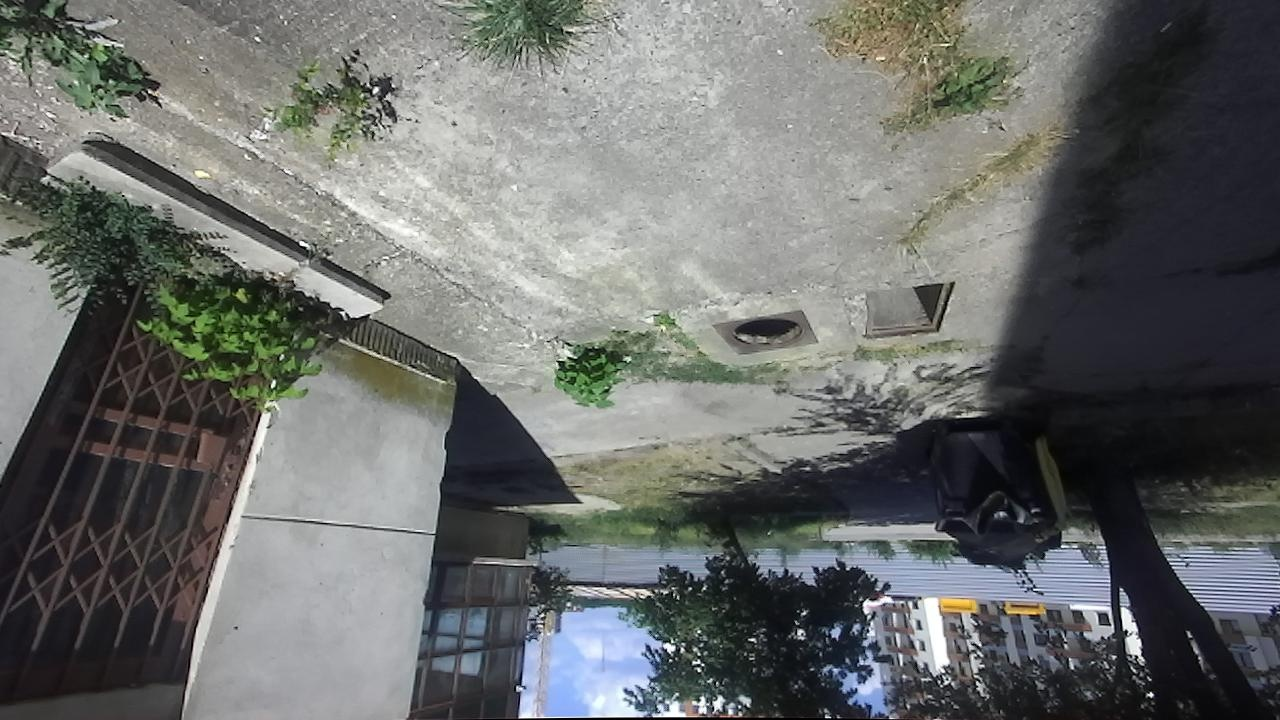drain: (860, 278, 961, 341), (721, 315, 806, 350)
